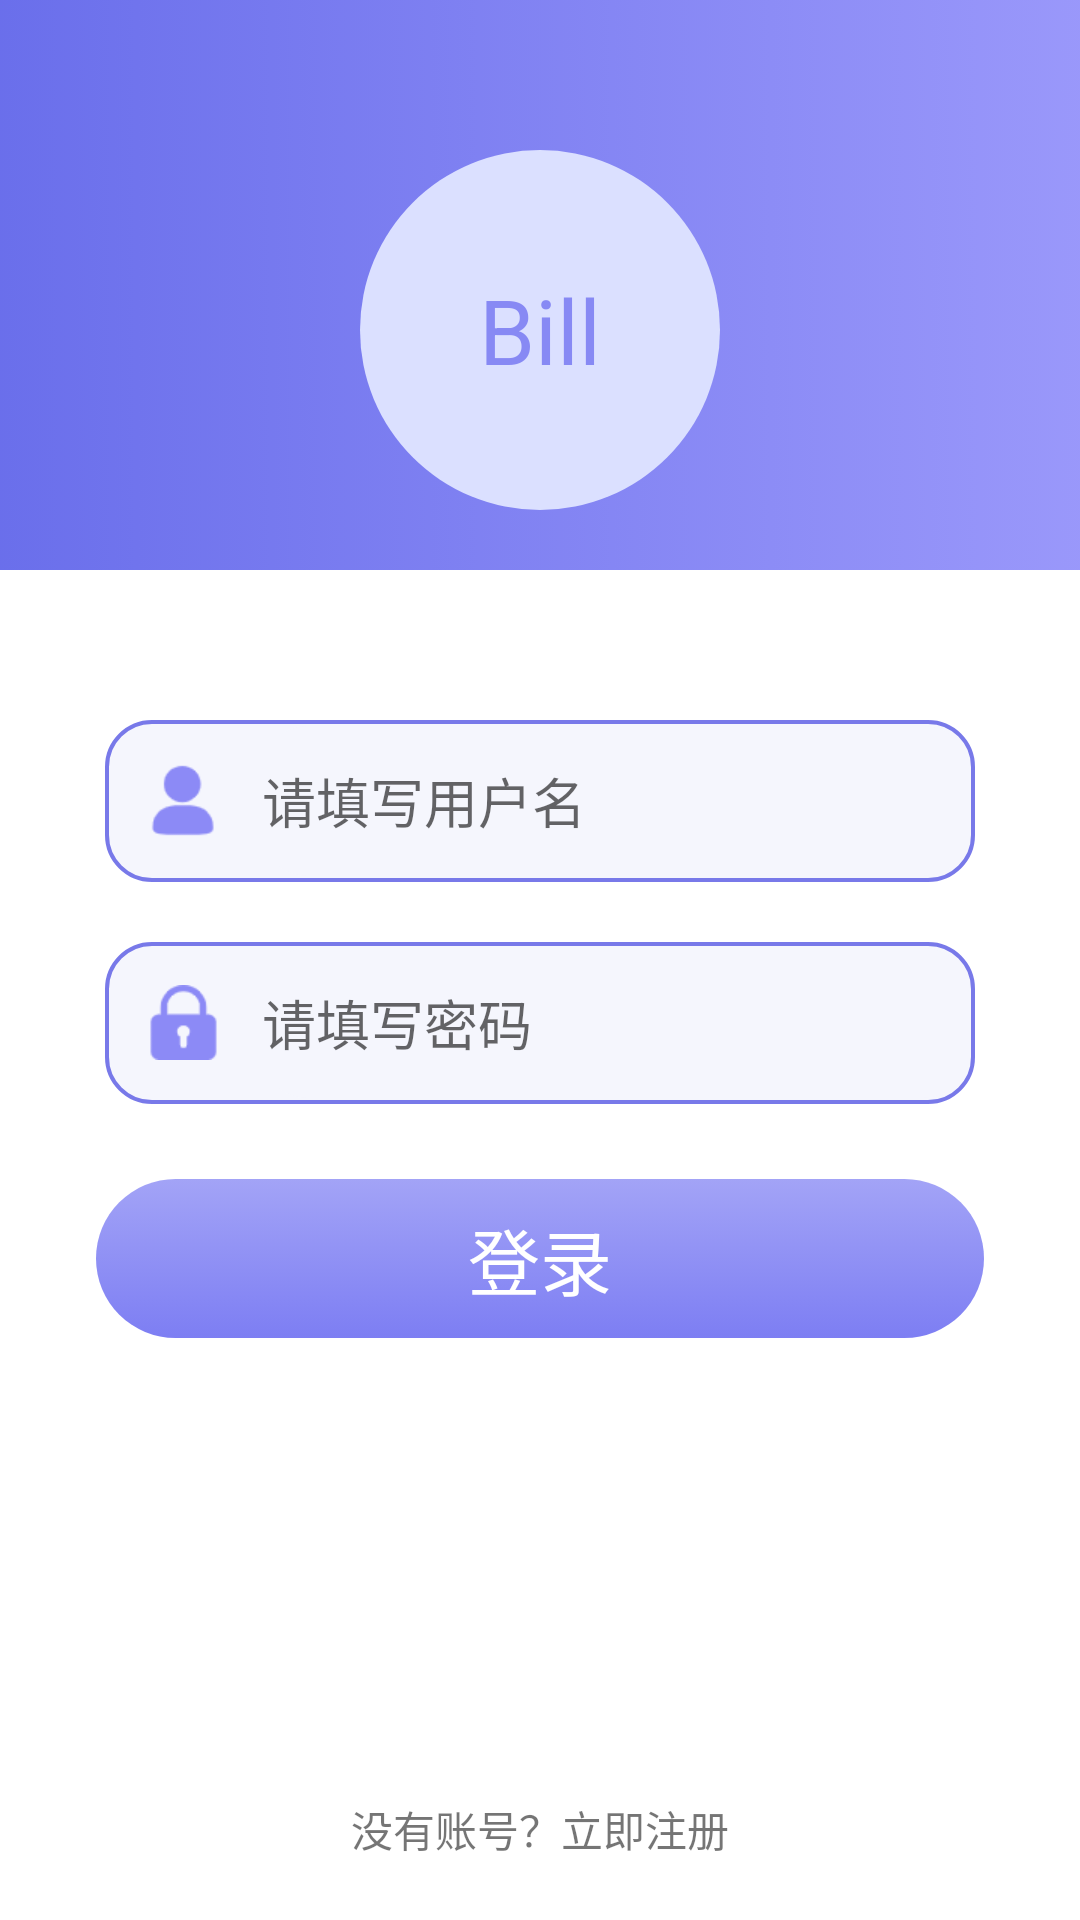

Icon bounding boxes for this 1080*1920 phone screenshot, format detection(x1, y1, x2, y2):
user: detection(152, 766, 214, 835)
